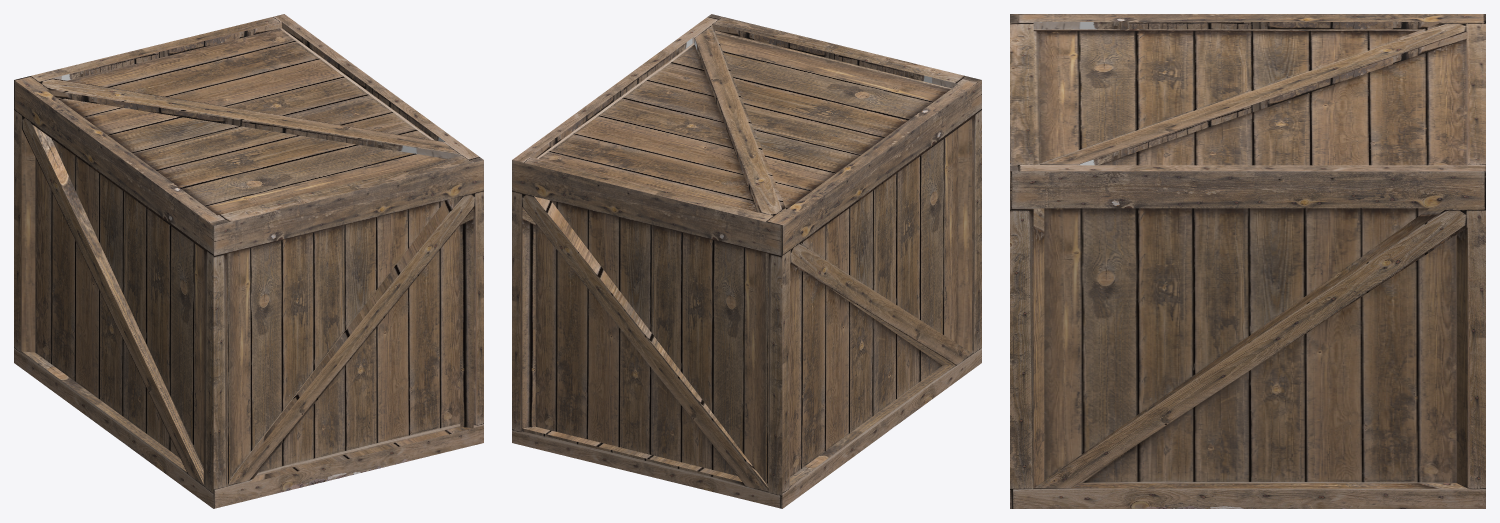
The model's file is Crate.fbx.
3 renders of one model, left to right at view 1: azimuth 30°, elevation 25°; view 2: azimuth 150°, elevation 25°; view 3: azimuth 270°, elevation 25°, orthographic. The views are drawn at different scales.
Parts seen in each view (by area): view 1: Crate; view 2: Crate; view 3: Crate.
Boxes of the visible parts, x1=… form: Crate: x1=14, y1=14, x2=483, y2=508; Crate: x1=512, y1=14, x2=981, y2=508; Crate: x1=1010, y1=14, x2=1485, y2=508.
Bounding box in the file's own units: 0.01 × 0.01 × 0.0128.
